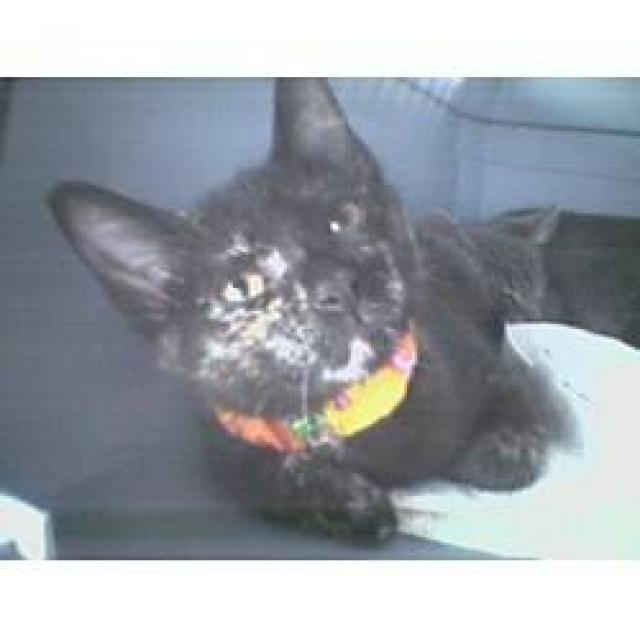Cat: (45, 78, 459, 428)
